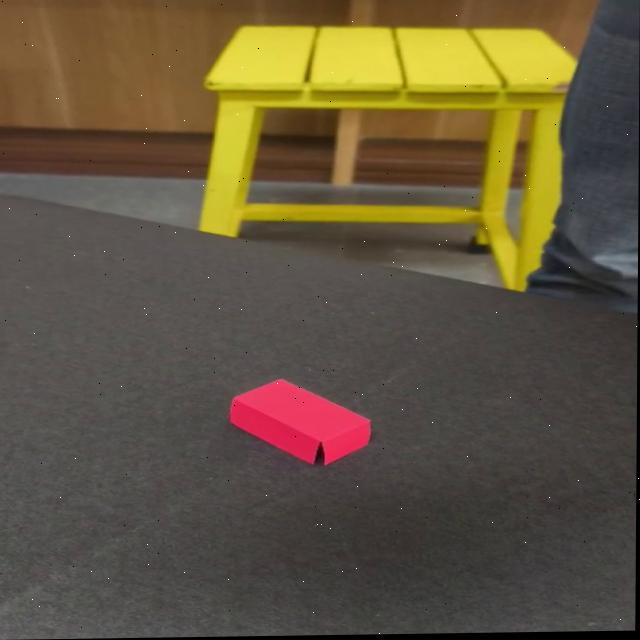red block: (229, 376, 374, 467)
